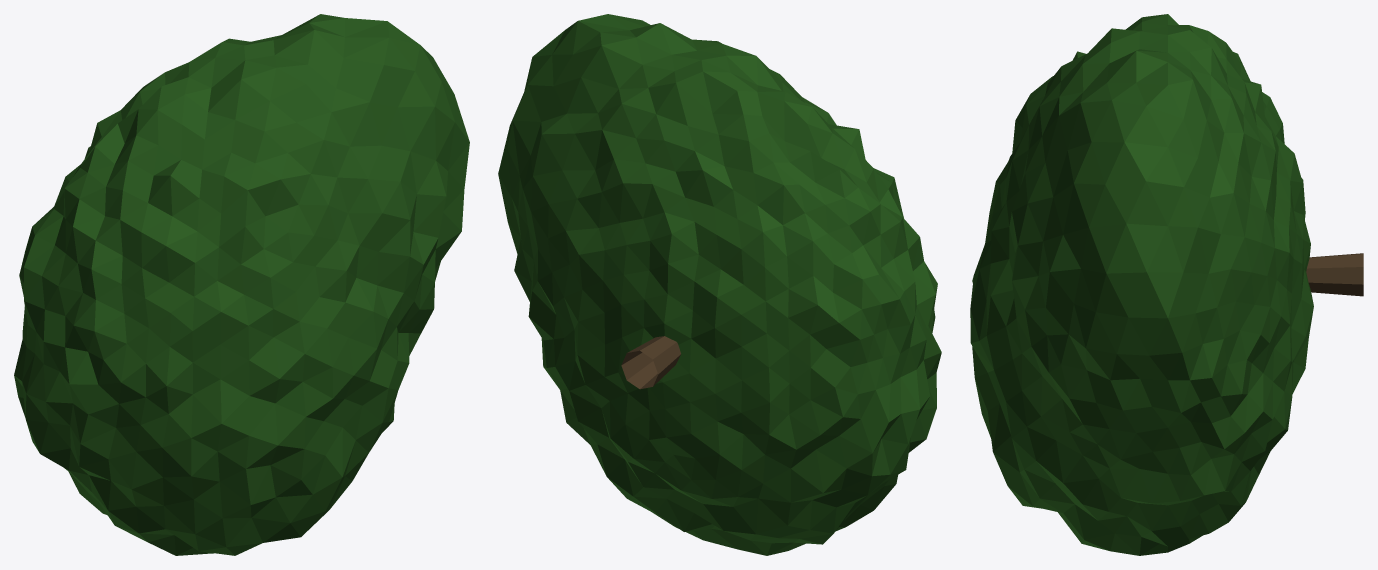
File: citrus_e.obj
3 views of the same model, side by side, from view 1: azimuth 30°, elevation 25°; view 2: azimuth 150°, elevation 25°; view 3: azimuth 270°, elevation 25° (orthographic). The views are drawn at different scales.
Parts seen in each view (by area): view 1: canopy; view 2: canopy, trunk; view 3: canopy, trunk.
Part boxes in pixels (left/top/right/bottom): canopy: left=14, top=14, right=469, bottom=555; canopy: left=498, top=14, right=941, bottom=555; trunk: left=621, top=336, right=680, bottom=389; canopy: left=970, top=14, right=1313, bottom=555; trunk: left=1306, top=253, right=1363, bottom=296.
Size of the model in its own units: 3.55 by 3.96 by 2.65.
